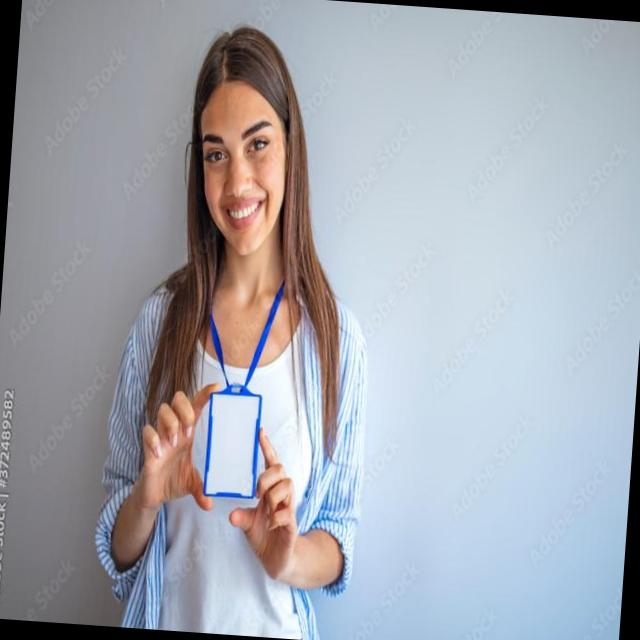id_card: (187, 281, 286, 501)
